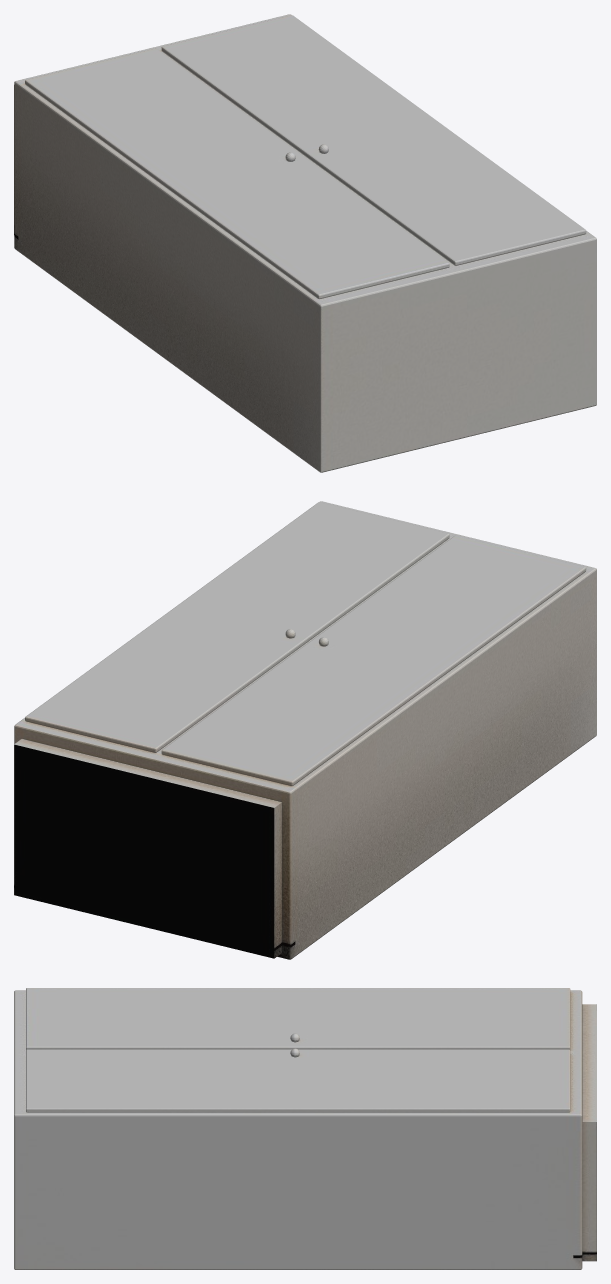
The picture shows the model from 3 angles, top to bottom: view 1: azimuth 30°, elevation 25°; view 2: azimuth 150°, elevation 25°; view 3: azimuth 270°, elevation 25°; orthographic projection. The views are drawn at different scales.
Visible parts, largest first — view 1: A2_final.001; view 2: A2_final.001; view 3: A2_final.001.
Part boxes in pixels (x1,y1,x2,y2): A2_final.001: (14,14,596,472); A2_final.001: (14,501,596,959); A2_final.001: (14,988,596,1269).
Size of the model in its own units: 1 by 0.621 by 1.97.
Materials: 1 (1 with a texture image).
